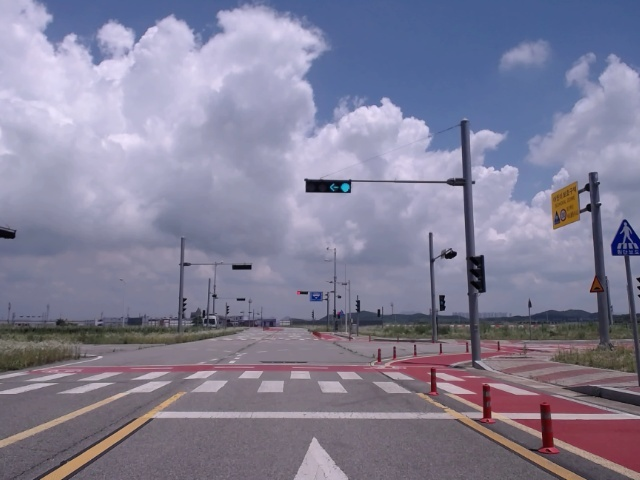all_green_4: (307, 180, 352, 196)
